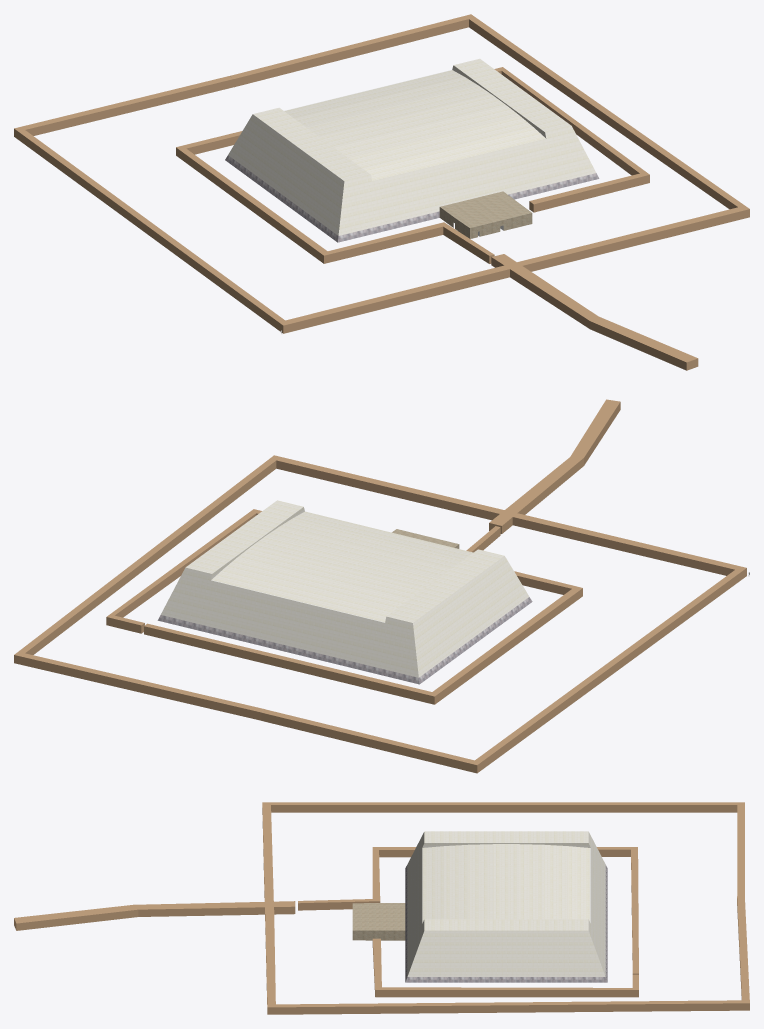
Rendered from Shepseskaf_Mastaba.obj.
The picture shows the model from 3 angles, top to bottom: view 1: azimuth 30°, elevation 25°; view 2: azimuth 150°, elevation 25°; view 3: azimuth 270°, elevation 25°; orthographic projection. The views are drawn at different scales.
Parts seen in each view (by area): view 1: Mesh1 Model, Mesh2 Model, Mesh3 Model, Mesh4 Model; view 2: Mesh1 Model, Mesh2 Model, Mesh3 Model, Mesh4 Model; view 3: Mesh1 Model, Mesh2 Model, Mesh4 Model, Mesh3 Model.
Boxes of the visible parts, x1,y1,x2,y2 form: Mesh1 Model: [225, 58, 599, 242]; Mesh2 Model: [14, 14, 749, 370]; Mesh3 Model: [176, 131, 494, 263]; Mesh4 Model: [494, 67, 649, 212]; Mesh1 Model: [157, 500, 532, 684]; Mesh2 Model: [14, 399, 746, 773]; Mesh3 Model: [144, 526, 582, 704]; Mesh4 Model: [106, 509, 261, 633]; Mesh1 Model: [352, 831, 607, 982]; Mesh2 Model: [14, 802, 749, 1014]; Mesh4 Model: [372, 938, 638, 997]; Mesh3 Model: [298, 847, 638, 974].
Bounding box in the file's own units: 180 × 18 × 271.
